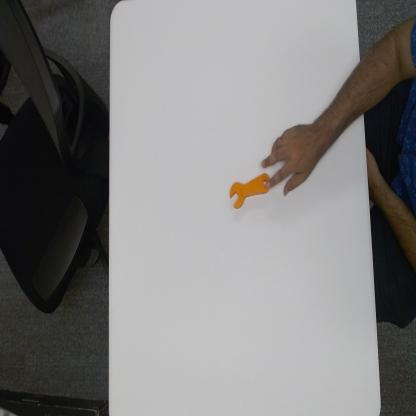Arm: (320, 49, 371, 154)
Hand: (260, 123, 320, 195)
Screwdriver: (227, 166, 271, 213)
